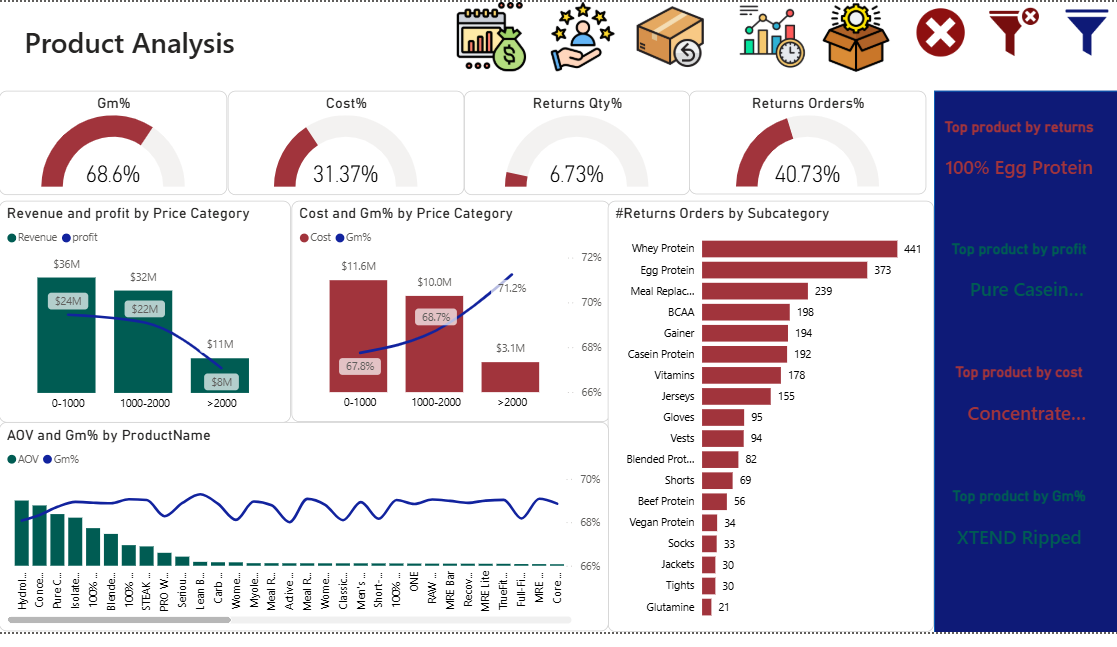

This screenshot's page, from the dashboard's own definition file:
{"tool":"powerbi","page":{"name":"Product Analysis","canvas":[1280,720],"ordinal":4},"visuals":[{"type":"gauge","fields":{"Y":["#Measures.Gm%"]},"box":[0,102,261,119],"z":0},{"type":"gauge","title":"Cost%","fields":{"Y":["#Measures.cost%"]},"box":[261,102,270,119],"z":1000},{"type":"gauge","title":"Returns Qty%","fields":{"Y":["#Measures.%Returns Qty"]},"box":[531,102,258,119],"z":2000},{"type":"gauge","title":"Returns Orders%","fields":{"Y":["#Measures.%returns orders"]},"box":[788.8,102.1,271.4,118.7],"z":3000},{"type":"lineClusteredColumnComboChart","fields":{"Y":["#Measures.Revenue"],"Y2":["#Measures.profit"],"Category":["SalesDetails.price category"]},"box":[0,227.3,333.6,253.6],"z":4000},{"type":"lineClusteredColumnComboChart","fields":{"Y":["#Measures.Cost"],"Y2":["#Measures.Gm%"],"Category":["SalesDetails.price category"]},"box":[333.6,227.3,363.6,252.7],"z":5000},{"type":"clusteredBarChart","title":"#Returns Orders by Subcategory","fields":{"Y":["#Measures.#Returns Orders"],"Category":["Product.SubcategoryName"]},"box":[696.4,227.3,372.7,492.7],"z":6000},{"type":"lineClusteredColumnComboChart","fields":{"Y":["#Measures.AOV"],"Y2":["#Measures.Gm%"],"Category":["Product.ProductName"]},"box":[0,480.5,696.4,239.3],"z":7000},{"type":"shape","box":[1069,102,211,641],"z":8000},{"type":"image","box":[1205,9,75,53],"z":9000},{"type":"image","box":[1116,5,89,57],"z":10000},{"type":"image","box":[1035,7,81,55],"z":11000},{"type":"cardVisual","title":"Top product by returns","fields":{"Data":["Min(Product.ProductName)"]},"box":[1051,133,229,88],"z":12000},{"type":"cardVisual","title":"Top product by profit","fields":{"Data":["Min(Product.ProductName)"]},"box":[1051,271.3,229,91],"z":13000},{"type":"cardVisual","title":"Top product by cost","fields":{"Data":["Min(Product.ProductName)"]},"box":[1051,412.7,229,91],"z":14000},{"type":"cardVisual","title":"Top product by Gm%","fields":{"Data":["Min(Product.ProductName)"]},"box":[1051,554,229,91],"z":15000},{"type":"image","box":[924.5,0.9,110.9,78.2],"z":19000},{"type":"image","box":[507.3,0,110.9,79.1],"z":20000},{"type":"image","box":[611.8,0,110.9,79.1],"z":21000},{"type":"image","box":[711.8,0,110.9,79.1],"z":22000},{"type":"image","box":[822.7,0,120,79.1],"z":23000},{"type":"cardVisual","fields":{"Data":["#Measures.Product analysis title"]},"box":[0,0,455.5,88.2],"z":24000}]}

Visuals, with their boxes in screenshot pixels (x1, y1, x2, y2), scaled from the page's 1280x720 canvas onto the 1117x647 screenshot:
gauge - #Measures.Gm%: (x1=0, y1=92, x2=228, y2=199)
"Cost%" gauge: (x1=228, y1=92, x2=463, y2=199)
"Returns Qty%" gauge: (x1=463, y1=92, x2=689, y2=199)
"Returns Orders%" gauge: (x1=688, y1=92, x2=925, y2=198)
lineClusteredColumnComboChart - #Measures.Revenue x #Measures.profit: (x1=0, y1=204, x2=291, y2=432)
lineClusteredColumnComboChart - #Measures.Cost x #Measures.Gm%: (x1=291, y1=204, x2=608, y2=431)
"#Returns Orders by Subcategory" clusteredBarChart: (x1=608, y1=204, x2=933, y2=646)
lineClusteredColumnComboChart - #Measures.AOV x #Measures.Gm%: (x1=0, y1=432, x2=608, y2=646)
shape: (x1=933, y1=92, x2=1116, y2=646)
image: (x1=1052, y1=8, x2=1116, y2=56)
image: (x1=974, y1=4, x2=1052, y2=56)
image: (x1=903, y1=6, x2=974, y2=56)
"Top product by returns" cardVisual: (x1=917, y1=120, x2=1116, y2=199)
"Top product by profit" cardVisual: (x1=917, y1=244, x2=1116, y2=326)
"Top product by cost" cardVisual: (x1=917, y1=371, x2=1116, y2=453)
"Top product by Gm%" cardVisual: (x1=917, y1=498, x2=1116, y2=580)
image: (x1=807, y1=1, x2=904, y2=71)
image: (x1=443, y1=0, x2=539, y2=71)
image: (x1=534, y1=0, x2=631, y2=71)
image: (x1=621, y1=0, x2=718, y2=71)
image: (x1=718, y1=0, x2=823, y2=71)
cardVisual - #Measures.Product analysis title: (x1=0, y1=0, x2=397, y2=79)
